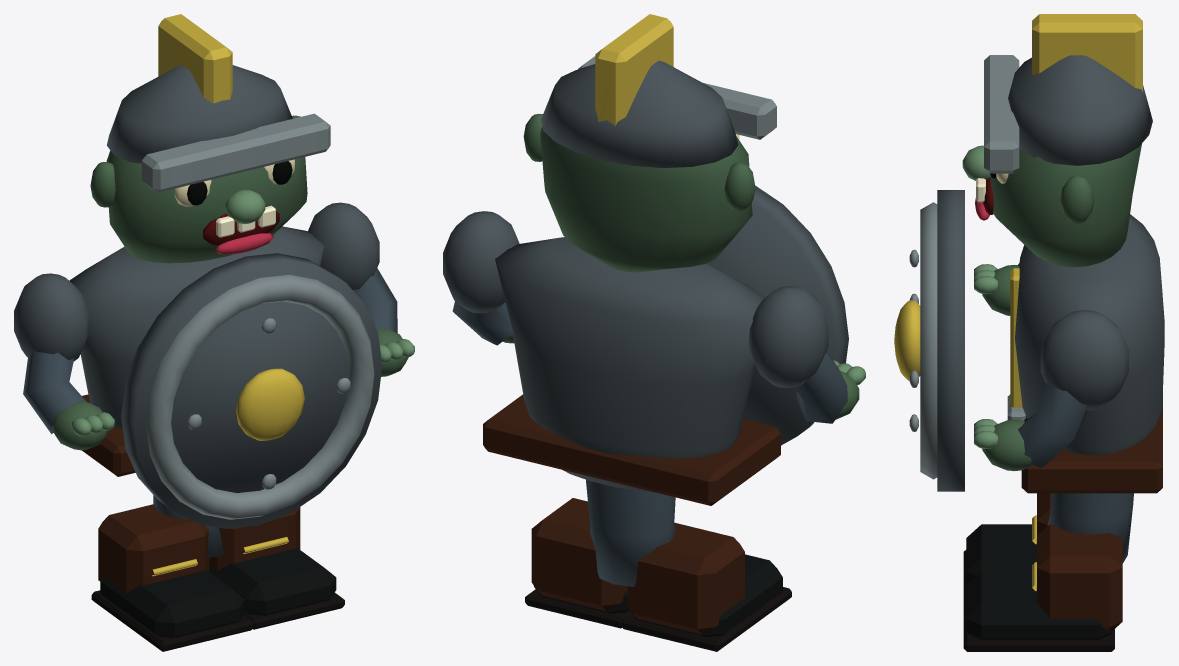
Rendered from bulwark.glb.
The picture shows the model from 3 angles, left to right: view 1: azimuth 30°, elevation 25°; view 2: azimuth 150°, elevation 25°; view 3: azimuth 270°, elevation 25°; orthographic projection. The views are drawn at different scales.
Parts seen in each view (by area): view 1: Arms, Head, LegL, Body, LegR; view 2: Body, Head, Arms, LegL, LegR; view 3: Head, Arms, Body, LegR, LegL.
Part boxes in pixels (<box>): Arms: <box>14,202,414,528</box>; Head: <box>90,14,330,263</box>; LegL: <box>91,495,253,651</box>; Body: <box>69,226,324,476</box>; LegR: <box>174,507,344,629</box>; Body: <box>483,237,780,505</box>; Head: <box>523,14,776,272</box>; Arms: <box>443,185,865,445</box>; LegL: <box>589,485,791,651</box>; LegR: <box>525,480,631,628</box>; Head: <box>962,14,1152,267</box>; Arms: <box>894,190,1128,491</box>; Body: <box>1007,214,1164,493</box>; LegR: <box>963,493,1131,651</box>; LegL: <box>963,493,1133,598</box>.
Bounding box in the file's own units: 0.8909 × 1.28 × 0.5365.
Materials: 1 (1 with a texture image).
